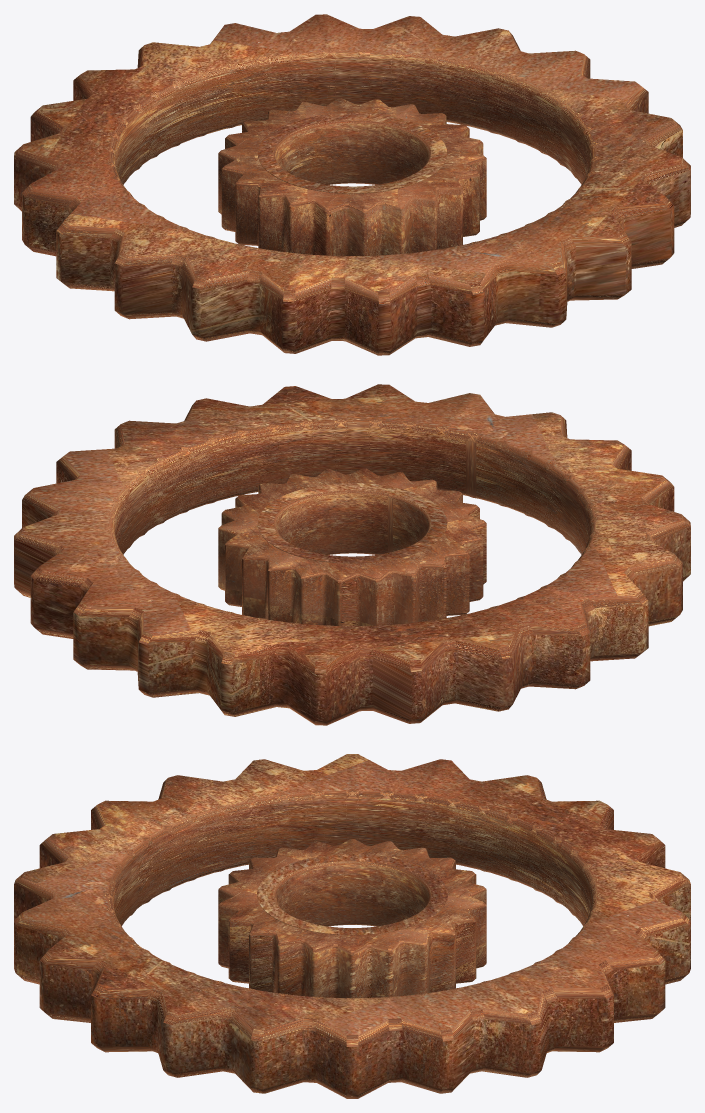
3 renders of one model, top to bottom at view 1: azimuth 30°, elevation 25°; view 2: azimuth 150°, elevation 25°; view 3: azimuth 270°, elevation 25°, orthographic.
Parts seen in each view (by area): view 1: obj2; view 2: obj2; view 3: obj2.
Boxes of the visible parts, <box> form: obj2: <box>14,14,690,355</box>; obj2: <box>14,384,690,725</box>; obj2: <box>14,754,690,1098</box>.
Size of the model in its own units: 228 by 23.54 by 226.
